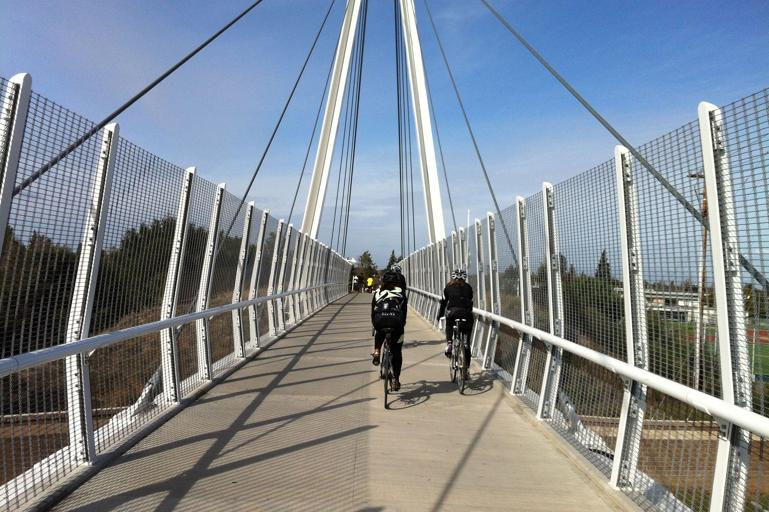non-vehicle: (371, 325, 397, 408), (445, 316, 470, 394)
